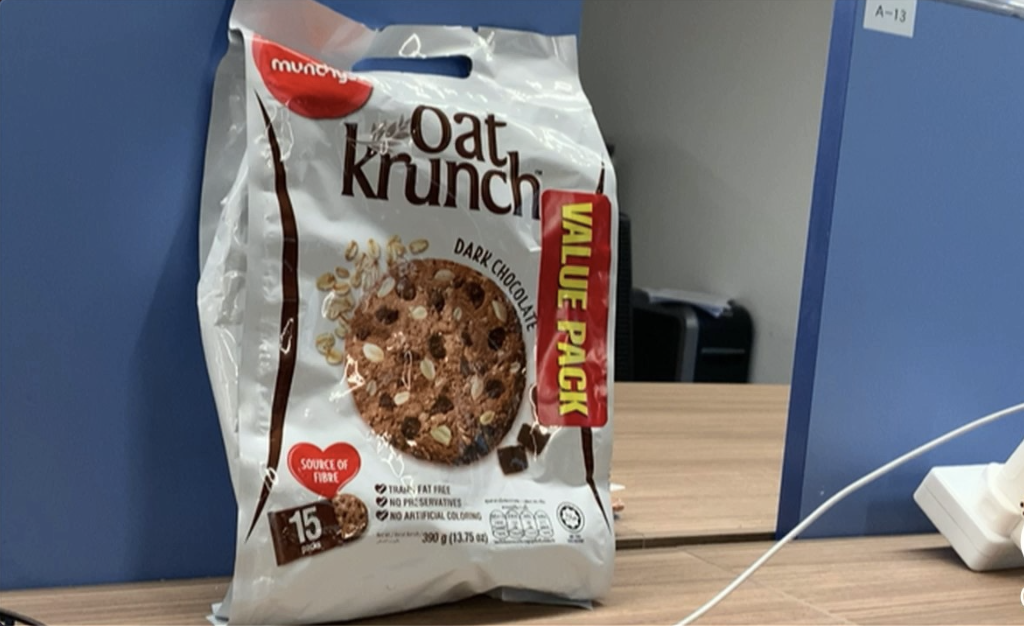cookies_450g: (272, 89, 600, 559)
